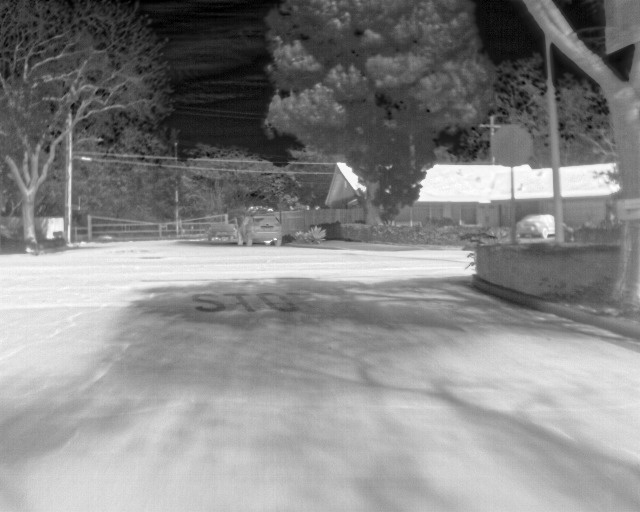vehicle: (240, 211, 283, 243)
